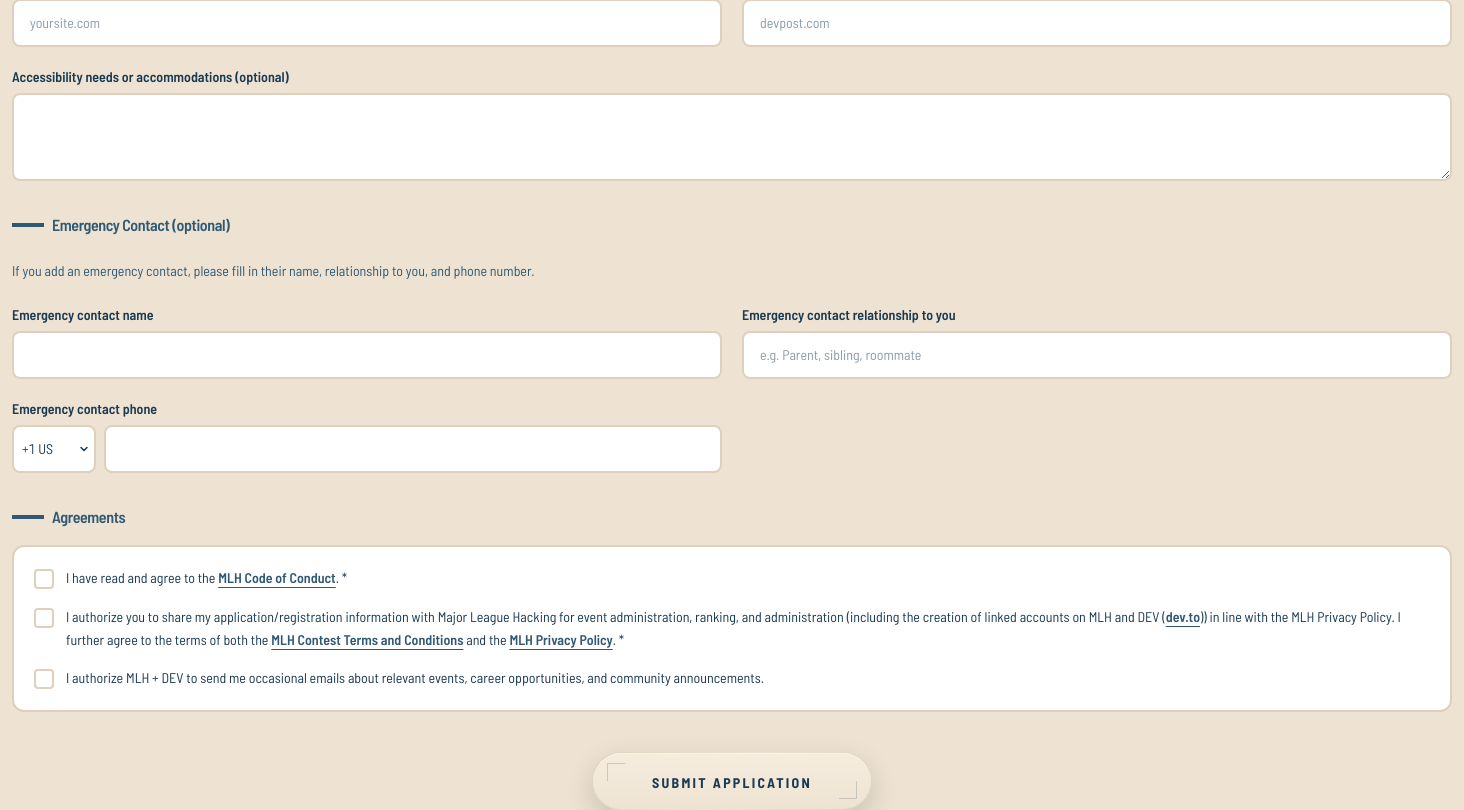
Test: ApplicationForm submission failures and recovery › asks signed-out applicants to sign in instead of submitting
The width and height of the screenshot is (1464, 810).
(page scrolled)
Click the button "Submit application" at point(732, 781), box [592, 752, 872, 809]
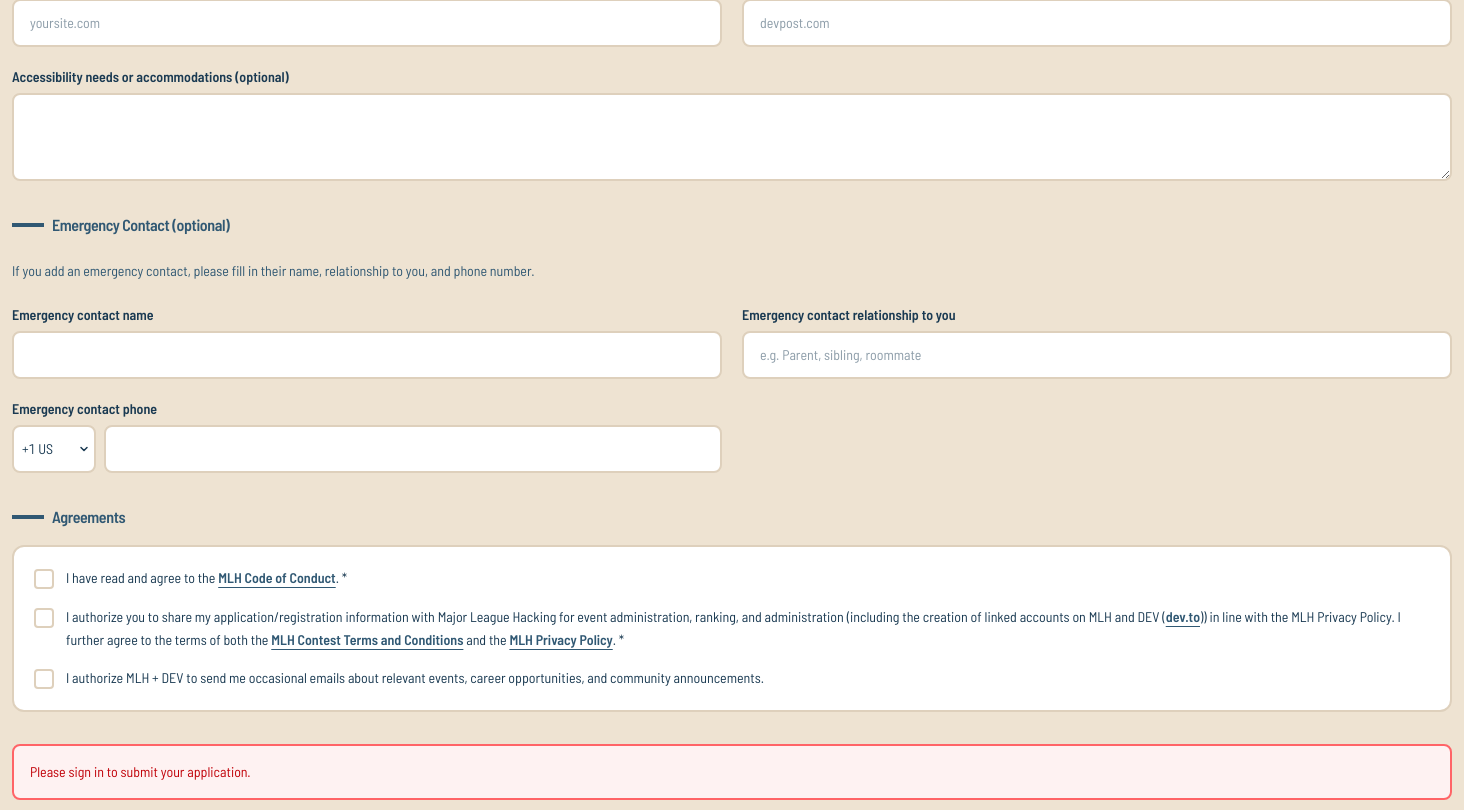
Check: the message reads "Please sign in to submit your application.", box [30, 763, 251, 780]
